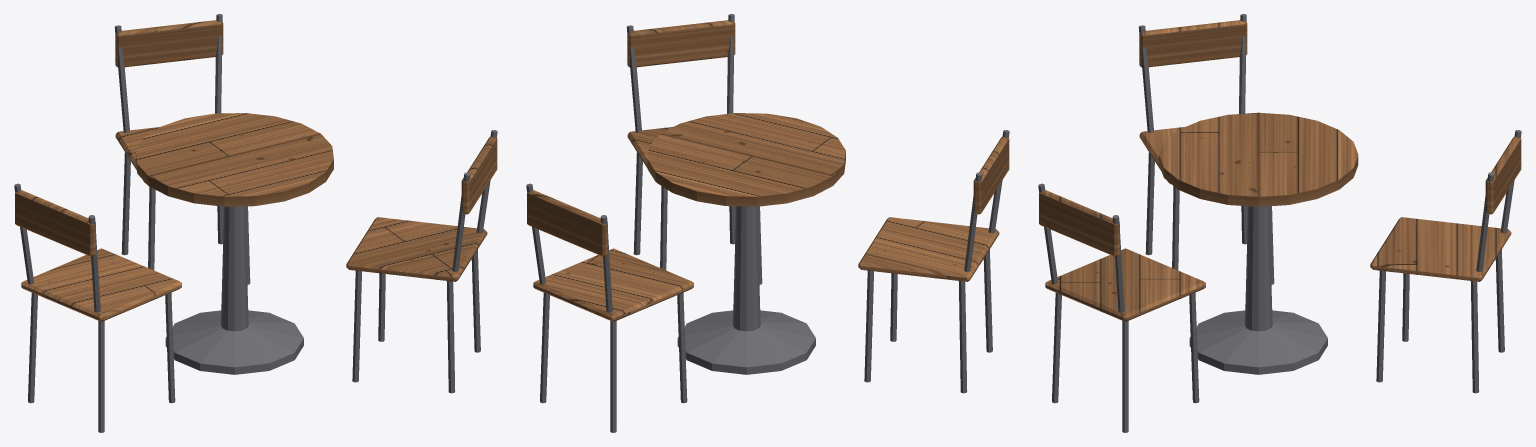
Rendered from cafe_table.glb.
3 views of the same model, side by side, from view 1: azimuth 30°, elevation 25°; view 2: azimuth 150°, elevation 25°; view 3: azimuth 270°, elevation 25° (orthographic).
Parts seen in each view (by area): view 1: cafe_table_wood, cafe_table_iron; view 2: cafe_table_wood, cafe_table_iron; view 3: cafe_table_wood, cafe_table_iron.
Part boxes in pixels (x1,y1,x2,y2): cafe_table_wood: (15, 20, 497, 321); cafe_table_iron: (14, 14, 497, 432); cafe_table_wood: (527, 20, 1009, 321); cafe_table_iron: (526, 14, 1009, 432); cafe_table_wood: (1039, 20, 1521, 321); cafe_table_iron: (1038, 14, 1521, 432).
Size of the model in its own units: 1.75 by 0.882 by 1.75.
2 materials, 1 textured.
